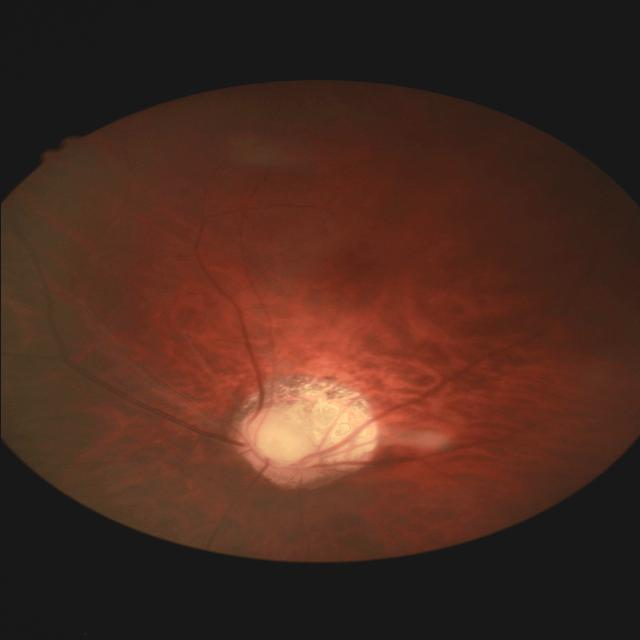cup: (246, 418, 324, 467)
disk: (235, 408, 329, 476)
